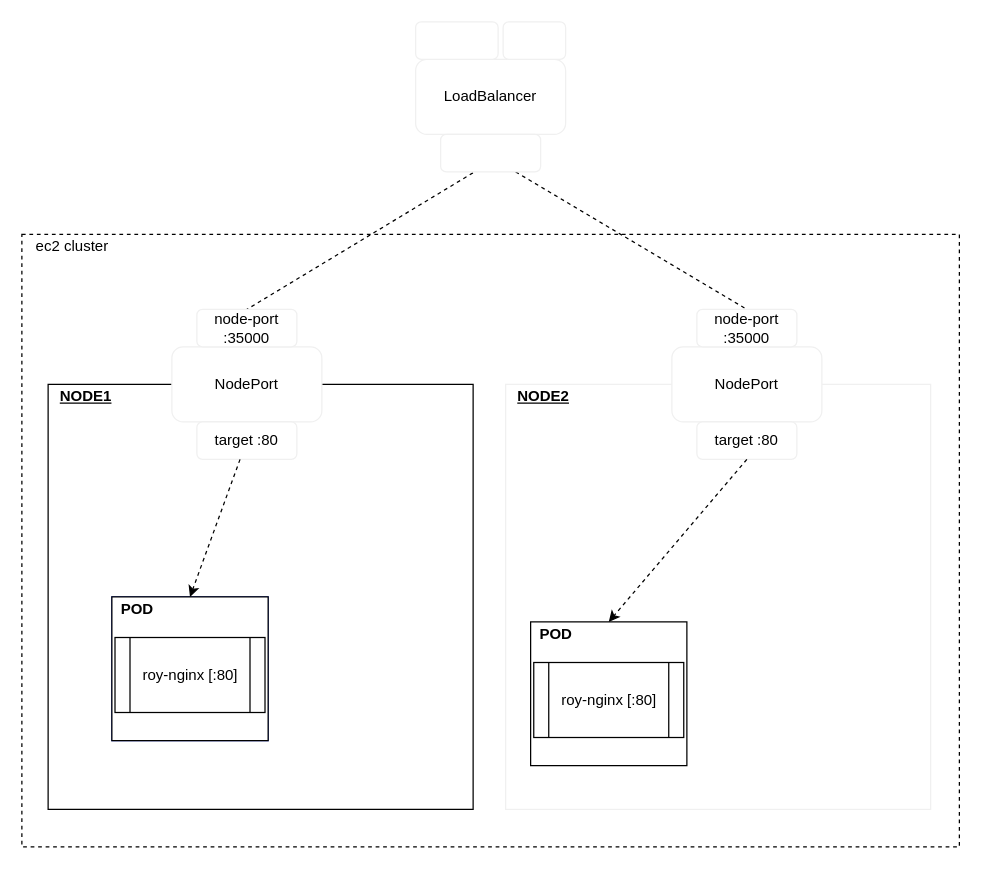
Some shapes in this 981 by 869 pixel diagram are drawn without their labels. The shapes that lost their labels are listed below. From the top down, each one's centre as x and y in pixels, then its label:
the point at 456,40: public-ip
the point at 534,40: port :80
the point at 490,152: target:35000
